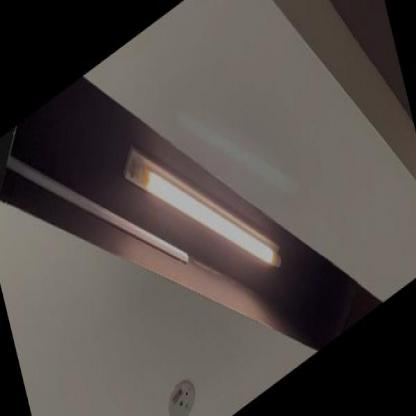light_on: (113, 53, 294, 362)
